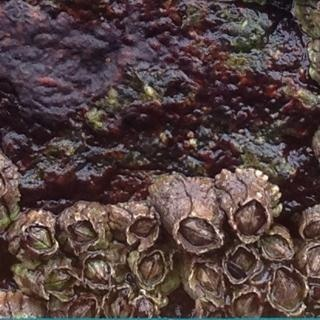Barnacle: (269, 267, 305, 312), (232, 200, 268, 238), (179, 216, 216, 250), (136, 251, 166, 289), (42, 266, 75, 298), (195, 263, 222, 300), (227, 245, 254, 282), (83, 255, 112, 289), (22, 224, 55, 253), (104, 290, 133, 319), (234, 290, 262, 320), (261, 233, 292, 260), (70, 218, 98, 244), (129, 215, 158, 239), (303, 220, 320, 239)
